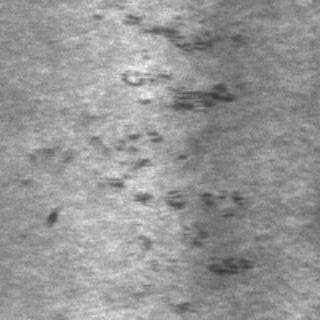rolled pit: (85, 130, 249, 276), (107, 10, 230, 110)
